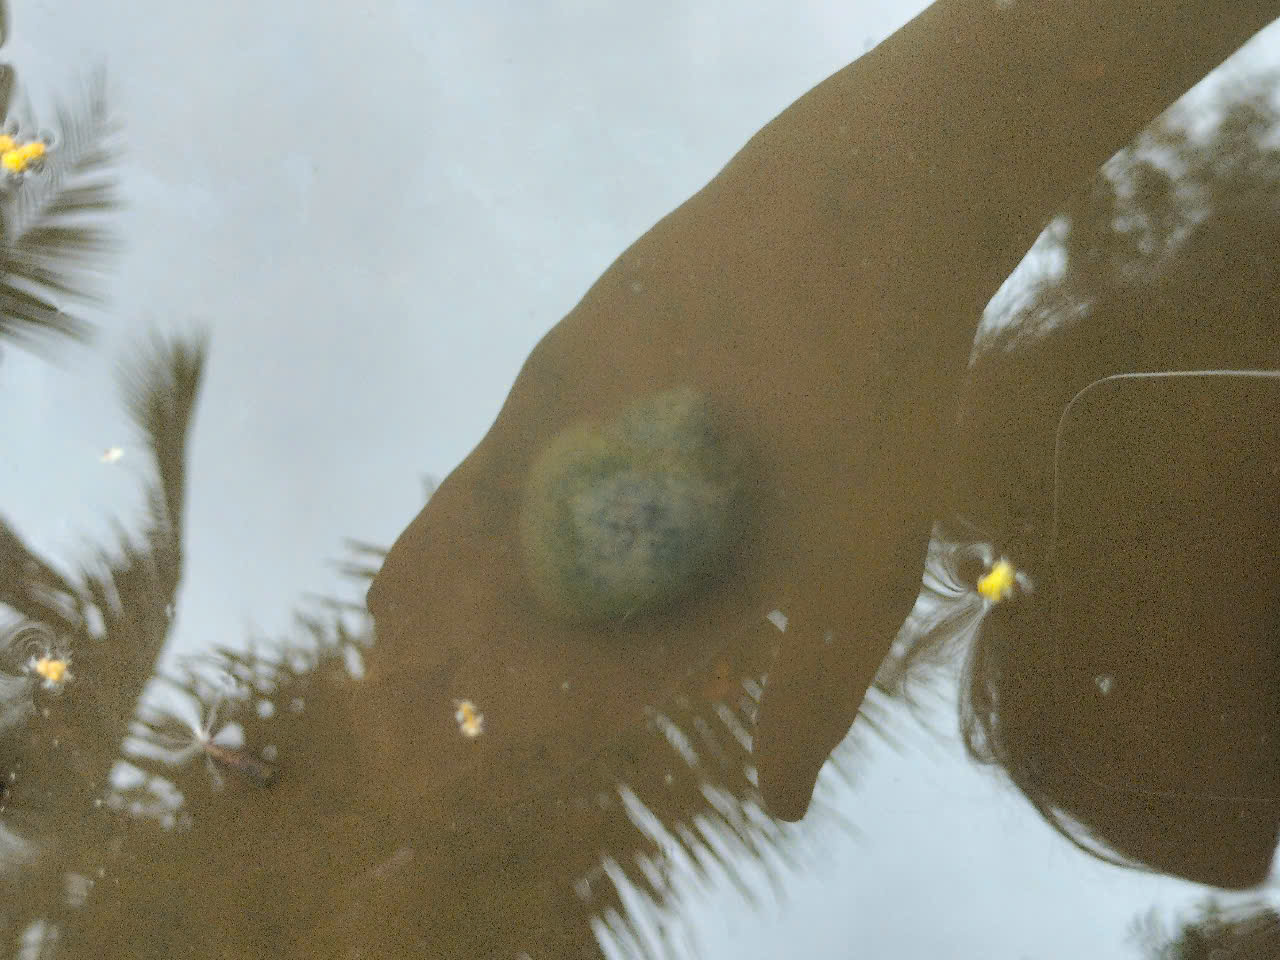oc_buou_den: (492, 365, 760, 671)
